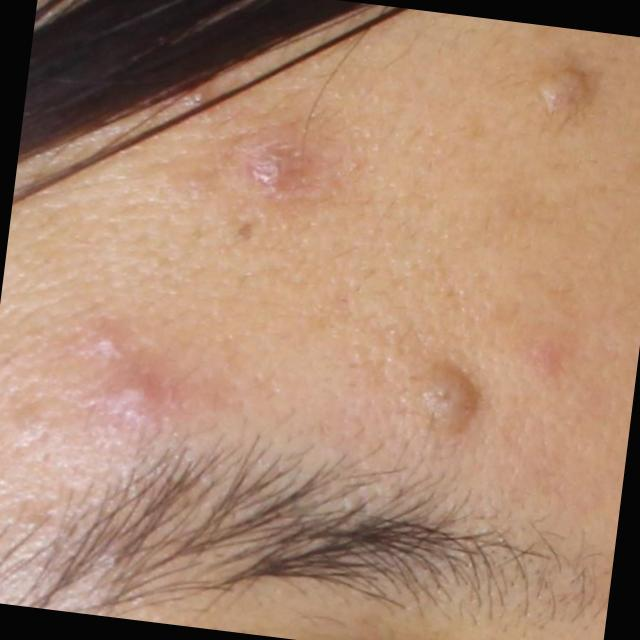nodule: (402, 356, 484, 444), (534, 62, 592, 120), (244, 142, 303, 198), (106, 368, 166, 414)
